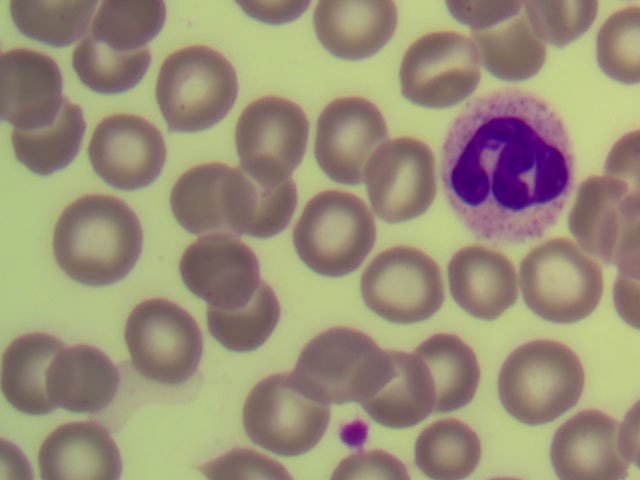Platelets: (339, 417, 370, 447)
RBC: (153, 45, 239, 135), (84, 101, 170, 191), (59, 193, 145, 283), (165, 157, 251, 247), (219, 156, 305, 246), (245, 99, 331, 189), (181, 217, 267, 307), (206, 271, 292, 361), (131, 296, 217, 386), (47, 336, 133, 426), (3, 98, 89, 188), (1, 37, 87, 127), (67, 24, 153, 114), (388, 28, 474, 118), (310, 88, 396, 178), (355, 133, 441, 223), (294, 193, 380, 283), (366, 249, 452, 339), (430, 230, 516, 320), (526, 246, 612, 336), (498, 335, 584, 425), (417, 330, 503, 420), (358, 349, 444, 439), (303, 322, 389, 412), (230, 369, 316, 459), (554, 390, 640, 480), (410, 410, 484, 480), (47, 410, 121, 480), (480, 6, 550, 78), (2, 333, 59, 411)
WBC: (449, 89, 575, 240)
